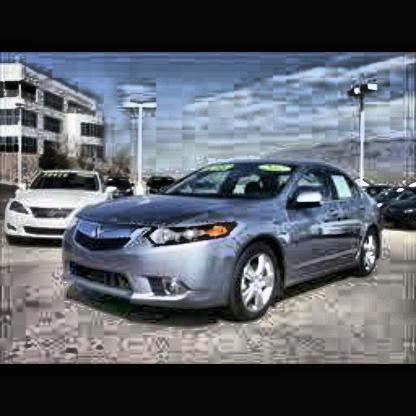Acura TSX Sedan 2012: (61, 161, 386, 325)
